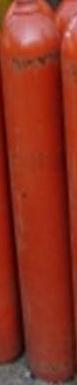cylinder: (0, 1, 77, 385)
